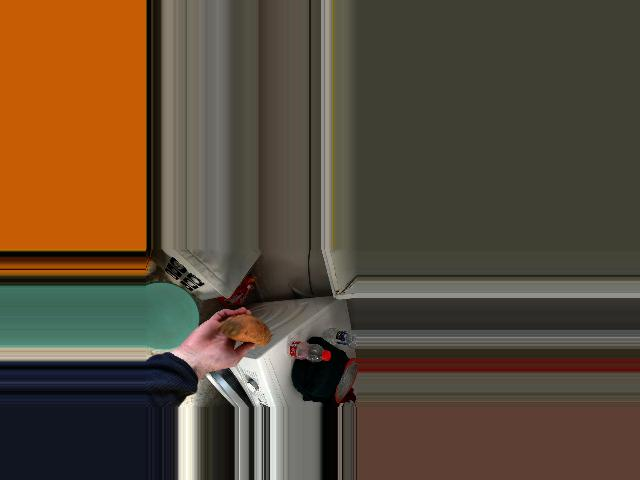sweet_potato: (215, 316, 272, 341)
